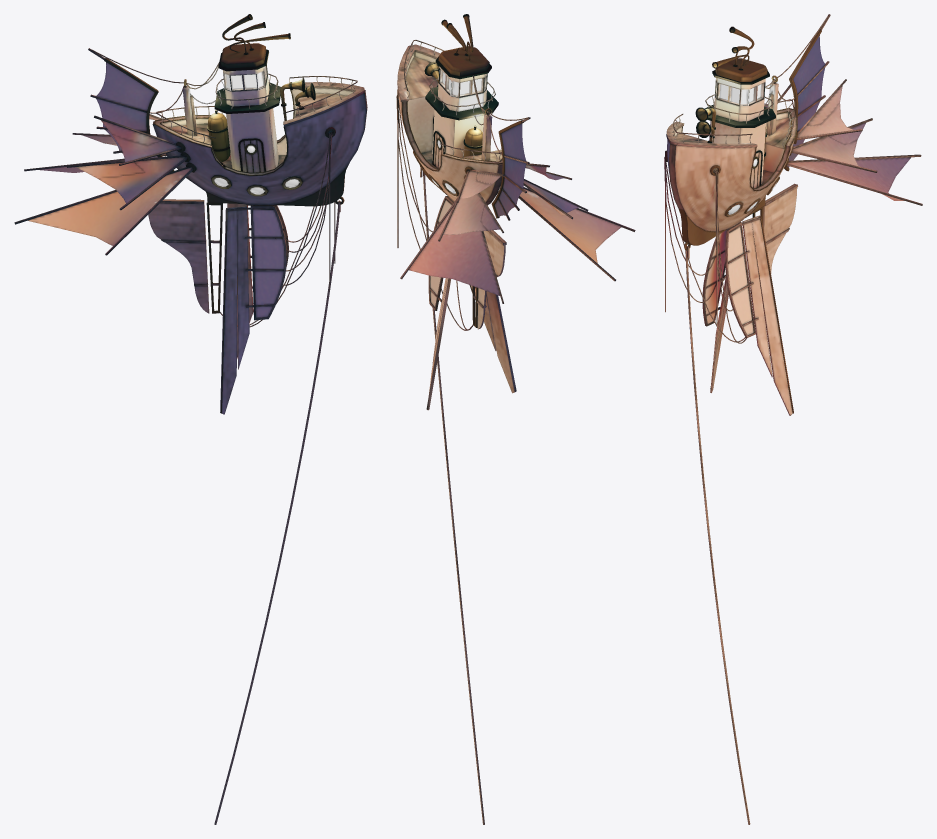
The model's file is shipobject.glb.
3 renders of one model, left to right at view 1: azimuth 30°, elevation 25°; view 2: azimuth 150°, elevation 25°; view 3: azimuth 270°, elevation 25°, orthographic.
Parts seen in each view (by area): view 1: Boot_Finaal_1_Boot_Finaal_0.001; view 2: Boot_Finaal_1_Boot_Finaal_0.001; view 3: Boot_Finaal_1_Boot_Finaal_0.001.
Boxes of the visible parts, <box> form: Boot_Finaal_1_Boot_Finaal_0.001: <box>14,14,367,824</box>; Boot_Finaal_1_Boot_Finaal_0.001: <box>396,14,635,824</box>; Boot_Finaal_1_Boot_Finaal_0.001: <box>664,14,922,824</box>.
Size of the model in its own units: 0.5715 by 1.57 by 0.4532.
Materials: 1 (1 with a texture image).
